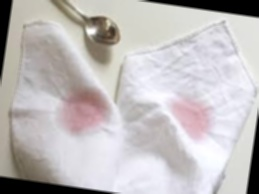wine: (51, 92, 114, 141), (169, 93, 214, 136)
